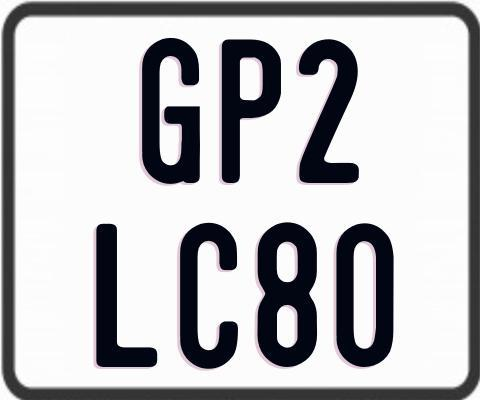0: (335, 220, 396, 364)
2: (298, 36, 359, 183)
8: (254, 221, 316, 371)
C: (177, 222, 238, 369)
G: (142, 36, 204, 188)
L: (96, 224, 161, 372)
P: (222, 39, 283, 185)
